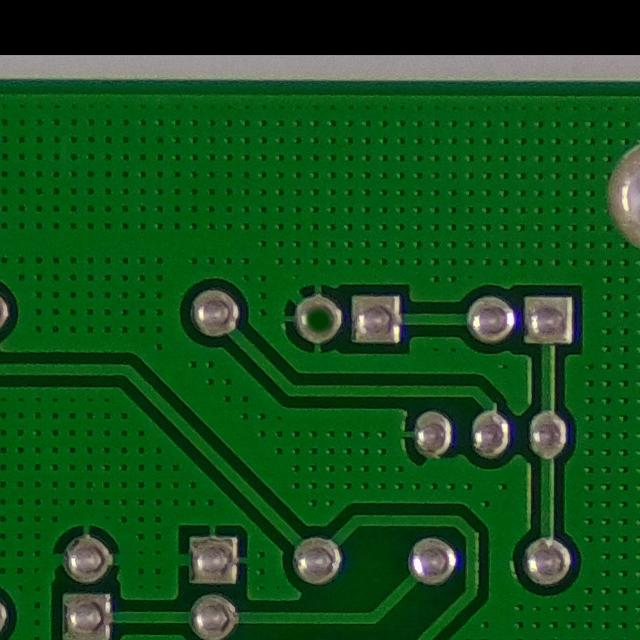missing_hole: (290, 282, 350, 357)
